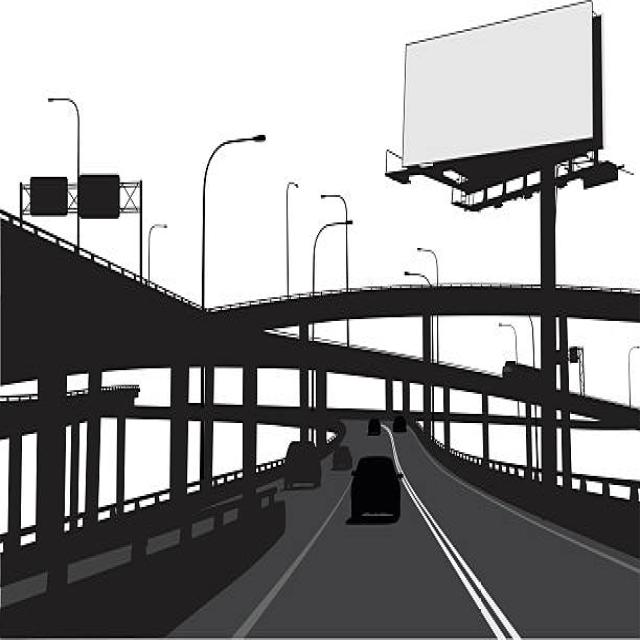Billboard_overhead: (399, 0, 608, 182)
Billboard_overhead_small: (74, 159, 128, 226), (23, 154, 69, 216)
Roadcorner: (440, 464, 638, 588)
Roadlane: (405, 474, 530, 635), (226, 491, 345, 638)
